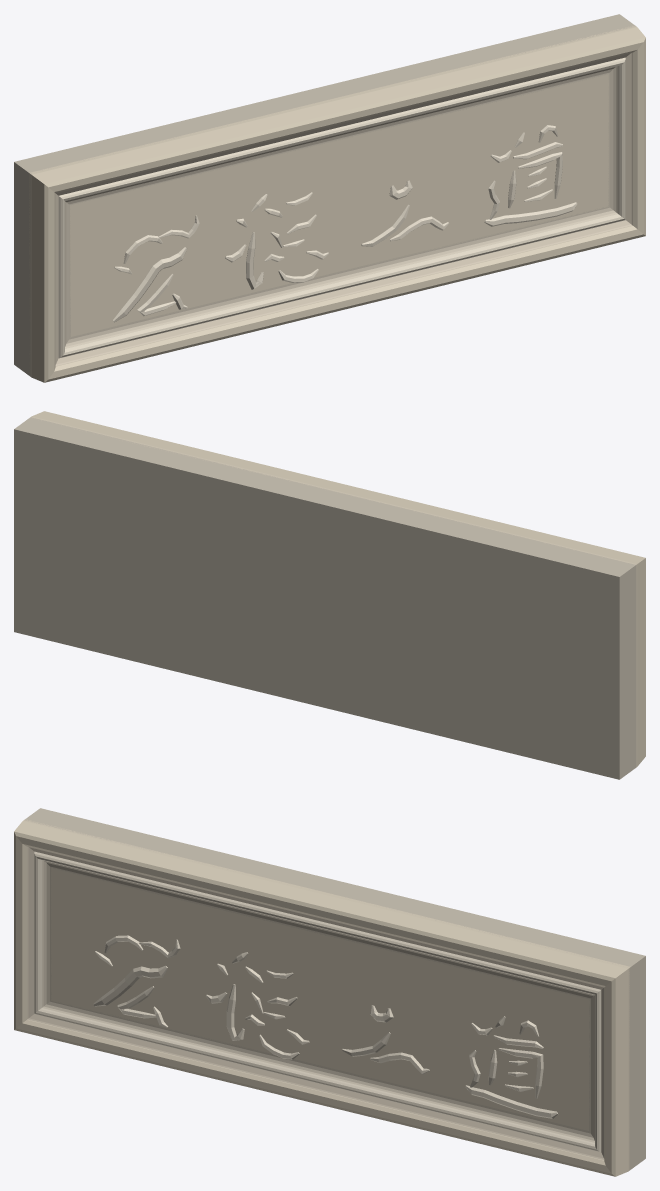
The model's file is pudong-chuansha-yiyuan-no88-stone-inscription-lod.glb.
The picture shows the model from 3 angles, top to bottom: view 1: azimuth 30°, elevation 25°; view 2: azimuth 150°, elevation 25°; view 3: azimuth 330°, elevation 25°; orthographic projection.
Visible parts, largest first — view 1: 川沙以园北城壕路88号四字石额; view 2: 川沙以园北城壕路88号四字石额; view 3: 川沙以园北城壕路88号四字石额.
Part boxes in pixels (x1,y1,x2,y2): 川沙以园北城壕路88号四字石额: (14, 14, 645, 382); 川沙以园北城壕路88号四字石额: (14, 411, 645, 779); 川沙以园北城壕路88号四字石额: (14, 808, 645, 1176).
Size of the model in its own units: 1.86 by 0.5952 by 0.156.
